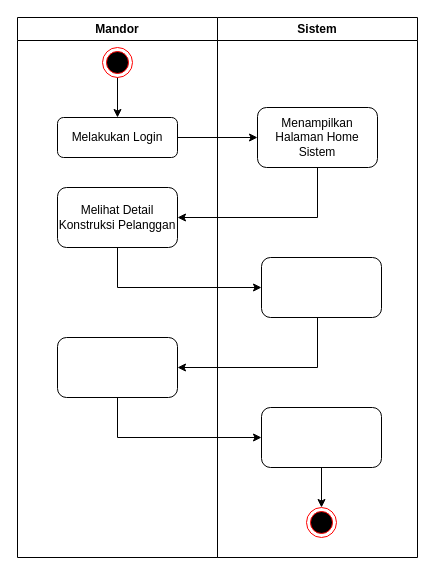
The diagram is 435 pixels wide and 575 high, and some of its shapes have lost their labels. The shapes that lost their labels are listed below. From the top down, each one's box as (x1, y1, x2, y2) in pixels, then its label:
(260, 256, 382, 318): Menampilkan Detail Konstruksi Pelanggan
(56, 336, 178, 398): Membuat Laporan Konstruksi
(260, 406, 382, 468): Menampilkan List Laporan Konstruksi
